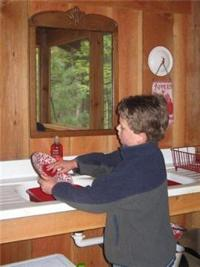person: (40, 92, 178, 267)
